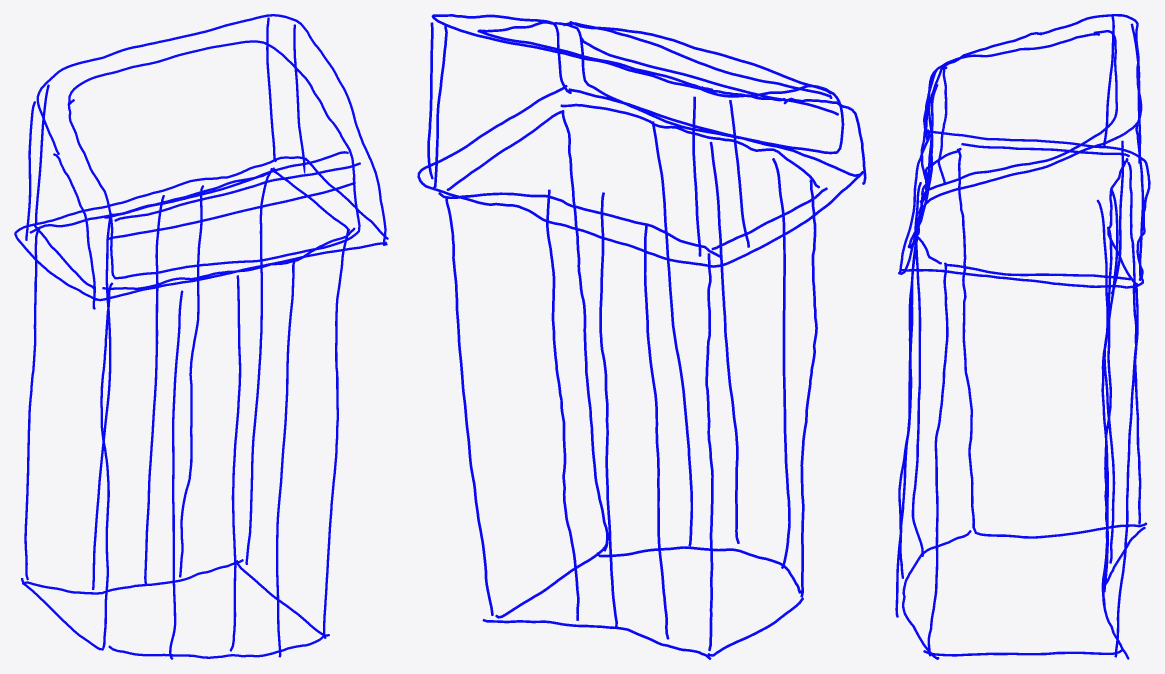
File: scaffold_sketch_P2_trash.glb
The picture shows the model from 3 angles, left to right: view 1: azimuth 30°, elevation 25°; view 2: azimuth 150°, elevation 25°; view 3: azimuth 270°, elevation 25°; orthographic projection. The views are drawn at different scales.
Parts seen in each view (by area): view 1: scaffold_sketch_P2_trash; view 2: scaffold_sketch_P2_trash; view 3: scaffold_sketch_P2_trash.
Boxes of the visible parts, x1,y1,x2,y2 form: scaffold_sketch_P2_trash: (14,14,388,659); scaffold_sketch_P2_trash: (417,14,866,659); scaffold_sketch_P2_trash: (895,14,1150,659).
Bounding box in the file's own units: 0.5957 × 1 × 0.4137.
